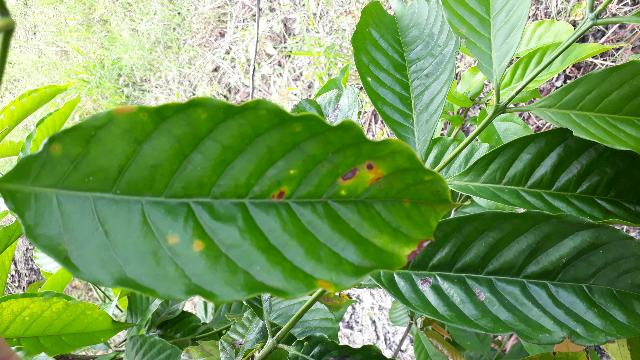rust_level_1: (1, 97, 470, 305)
